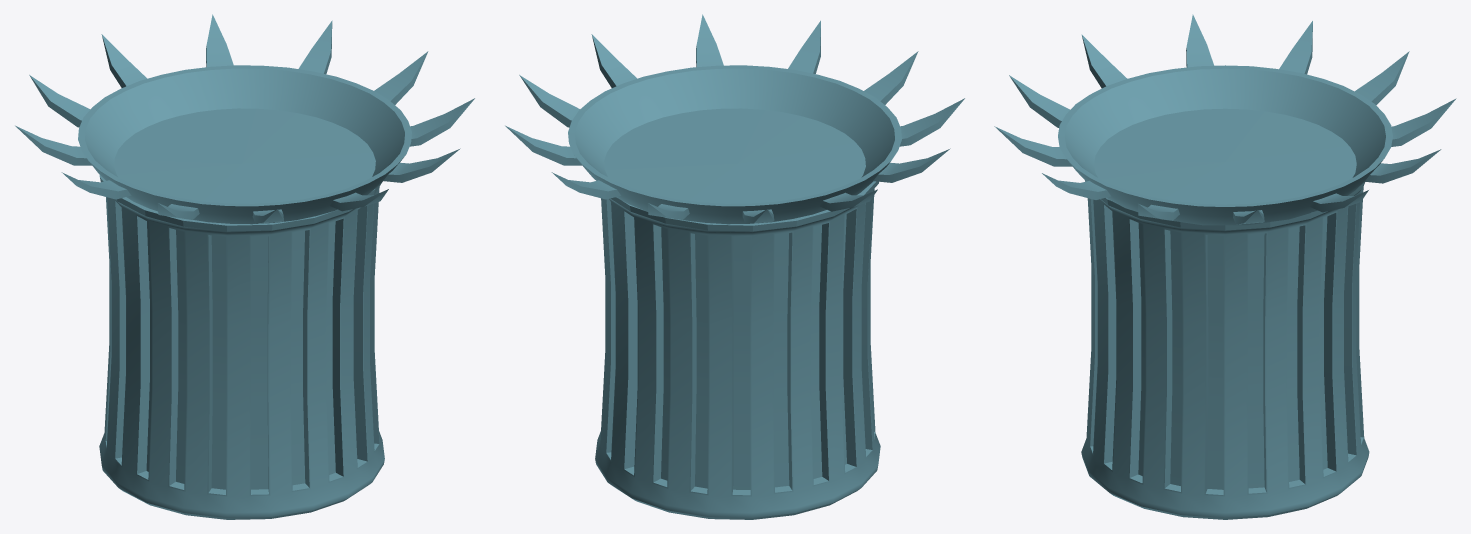
Rendered from SM_Colonne_Braisier.fbx.
3 renders of one model, left to right at view 1: azimuth 30°, elevation 25°; view 2: azimuth 150°, elevation 25°; view 3: azimuth 270°, elevation 25°, orthographic.
Visible parts, largest first — view 1: SM_Colonne_Braisier; view 2: SM_Colonne_Braisier; view 3: SM_Colonne_Braisier.
Boxes of the visible parts, x1,y1,x2,y2 form: SM_Colonne_Braisier: (15,14,474,519); SM_Colonne_Braisier: (505,14,964,519); SM_Colonne_Braisier: (994,14,1456,519).
Size of the model in its own units: 209 by 175 by 209.
